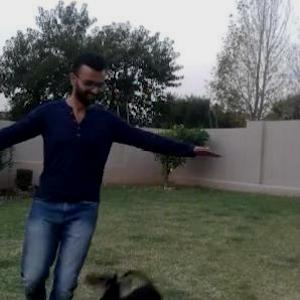land: (0, 68, 171, 291)
